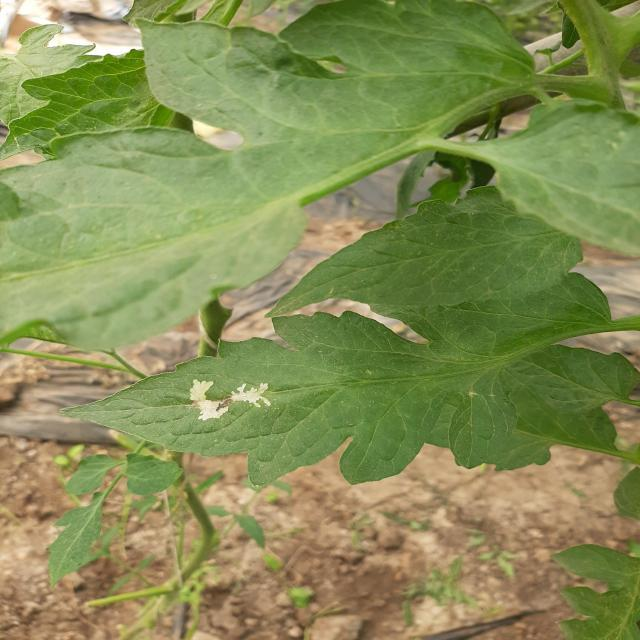Tuta absoluta: (190, 379, 270, 420)
